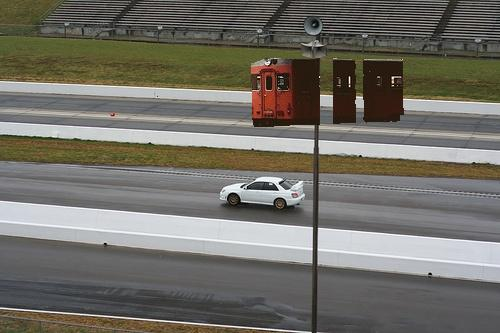tampered: (252, 59, 404, 127)
